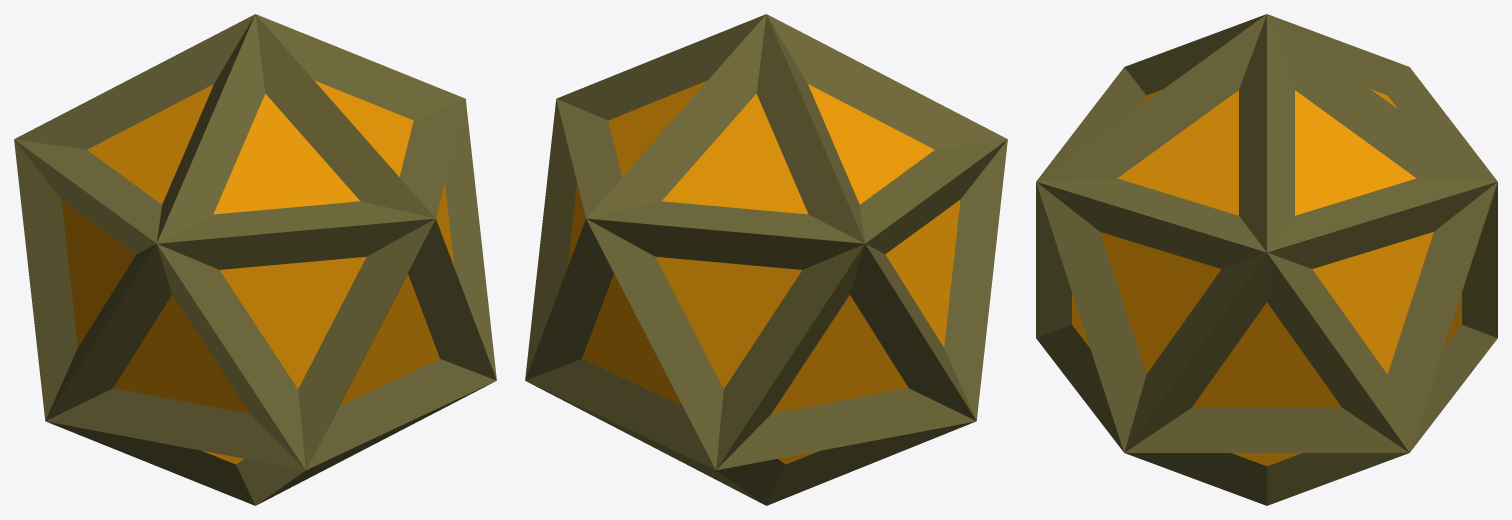
Rendered from GeosEssence.fbx.
3 renders of one model, left to right at view 1: azimuth 30°, elevation 25°; view 2: azimuth 150°, elevation 25°; view 3: azimuth 270°, elevation 25°, orthographic.
Parts seen in each view (by area): view 1: Icosphere; view 2: Icosphere; view 3: Icosphere.
Boxes of the visible parts, x1,y1,x2,y2 form: Icosphere: (14, 14, 496, 505); Icosphere: (525, 14, 1007, 505); Icosphere: (1036, 14, 1497, 505).
Bounding box in the file's own units: 179 × 200 × 170.
